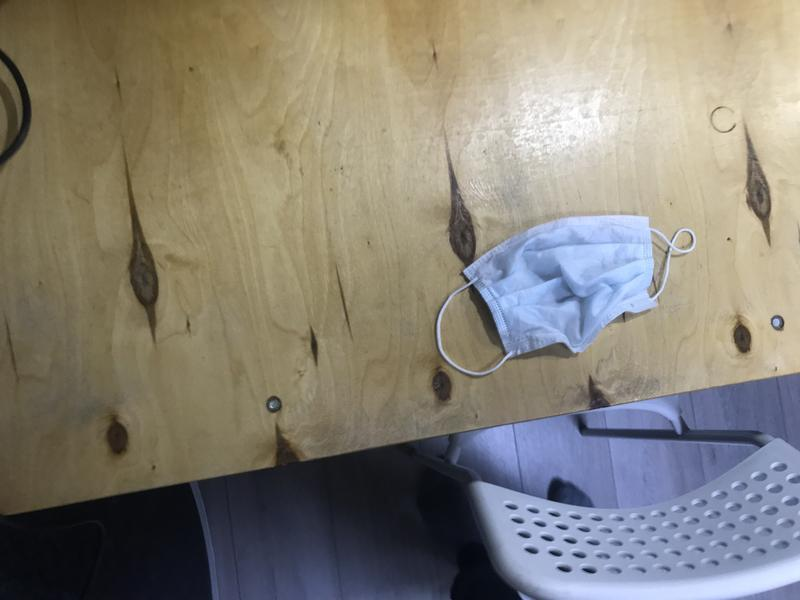medical_mask: (436, 216, 698, 379)
